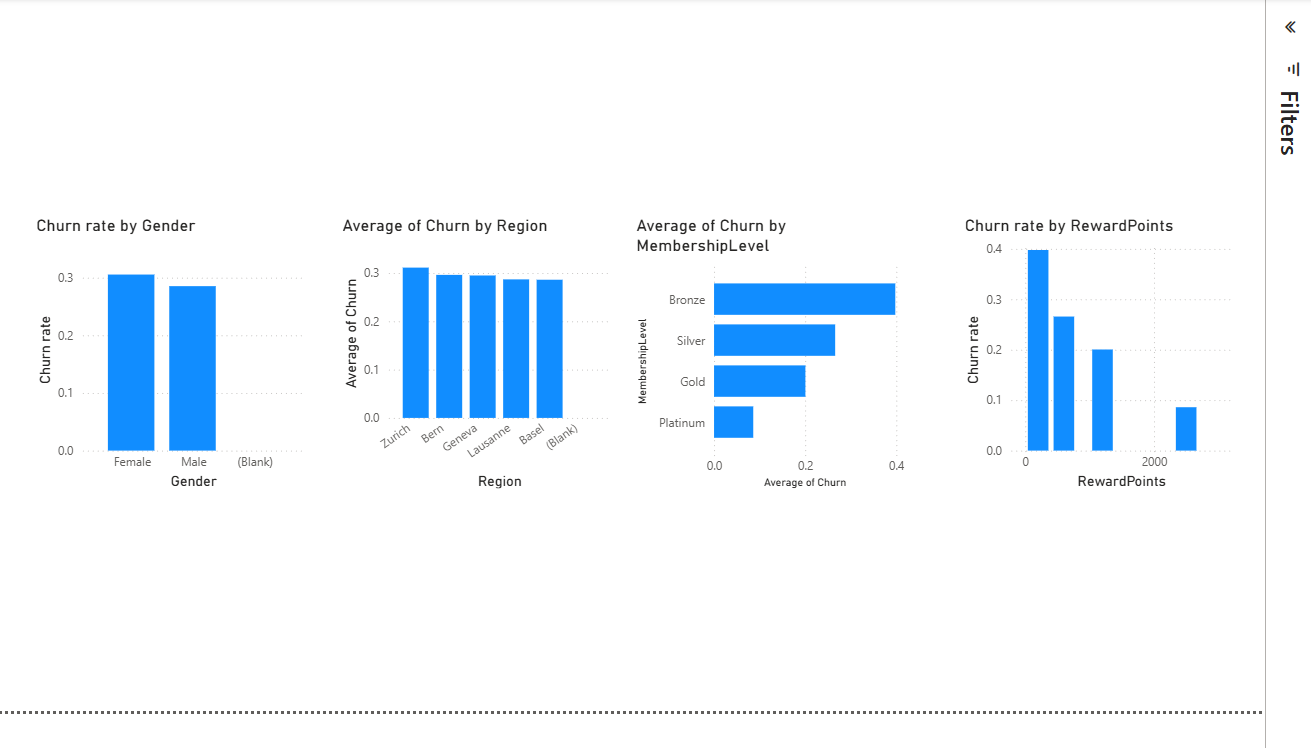

What the dashboard file says about the page in this screenshot:
{"tool":"powerbi","page":{"name":"Page 2","canvas":[1280,720],"ordinal":1},"visuals":[{"type":"clusteredColumnChart","fields":{"Y":["CustomerActivity.Churn rate"],"Category":["Customer.Gender"]},"box":[35,220,280,280],"z":0},{"type":"clusteredColumnChart","fields":{"Category":["Customer.Region"],"Y":["Avg(CustomerActivity.Churn)"]},"box":[343.3,220,280,280],"z":1000},{"type":"clusteredBarChart","fields":{"Category":["CustomerActivity.MembershipLevel"],"Y":["Avg(CustomerActivity.Churn)"]},"box":[640,220,280,280],"z":2000},{"type":"clusteredColumnChart","fields":{"Category":["Membership.RewardPoints"],"Y":["CustomerActivity.Churn rate"]},"box":[971.7,220,280,280],"z":3000}]}

Visuals, with their boxes on the page's 1280x720 design canvas (x1, y1, x2, y2). These are canvas units, not pixel positions in the 1311x748 screenshot, which may show the page scaled, cropped or inside an application window:
clusteredColumnChart - CustomerActivity.Churn rate x Customer.Gender: detection(35, 220, 315, 500)
clusteredColumnChart - Customer.Region x Avg(CustomerActivity.Churn): detection(343, 220, 623, 500)
clusteredBarChart - CustomerActivity.MembershipLevel x Avg(CustomerActivity.Churn): detection(640, 220, 920, 500)
clusteredColumnChart - Membership.RewardPoints x CustomerActivity.Churn rate: detection(972, 220, 1252, 500)
